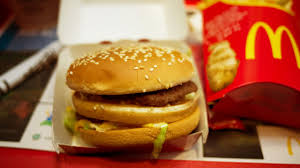mcdonalds: (245, 20, 300, 67)
